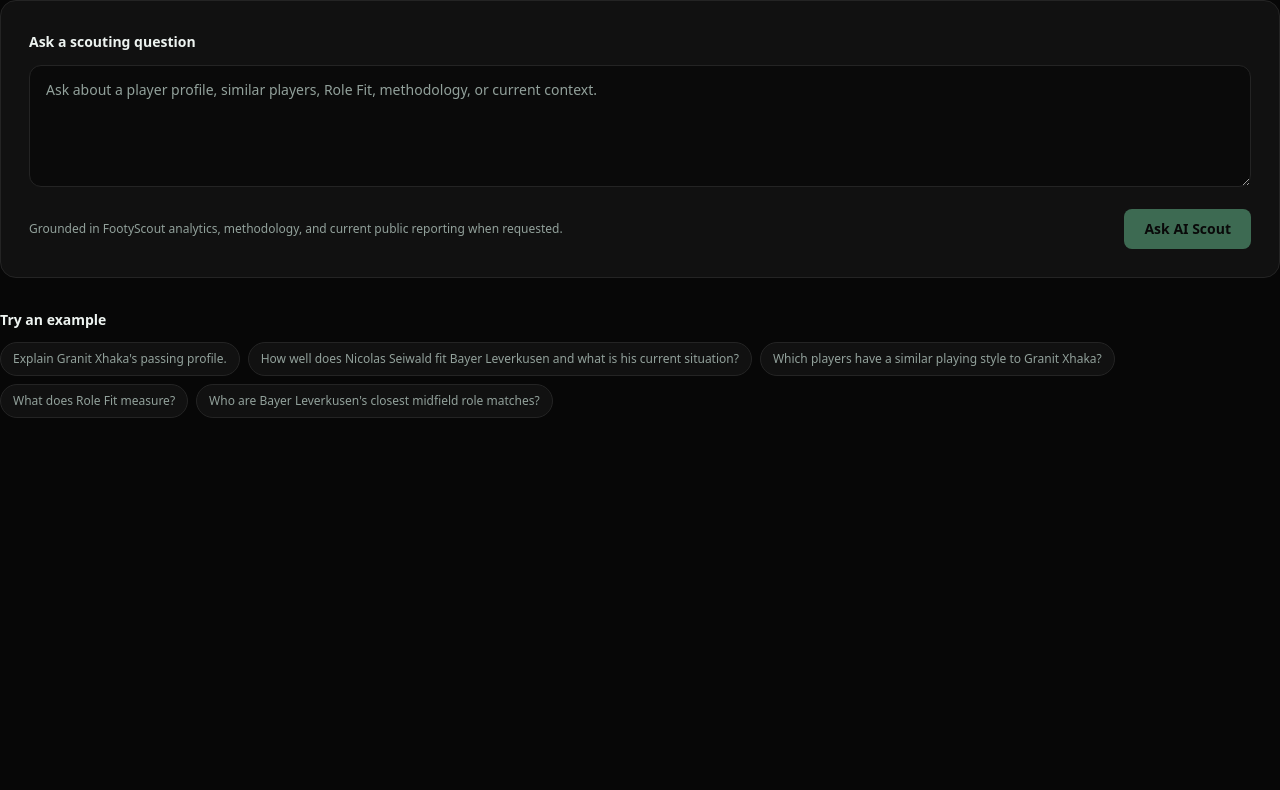
Scenario: AIScoutExperience › renders a successful or repaired answer as normal grounded Markdown
This screenshot has width=1280, height=790.
Type "Explain Role Fit." into the text box labelled "Ask a scouting question".
click(640, 126); type("Explain Role Fit.")  # box [29,65,1251,187]
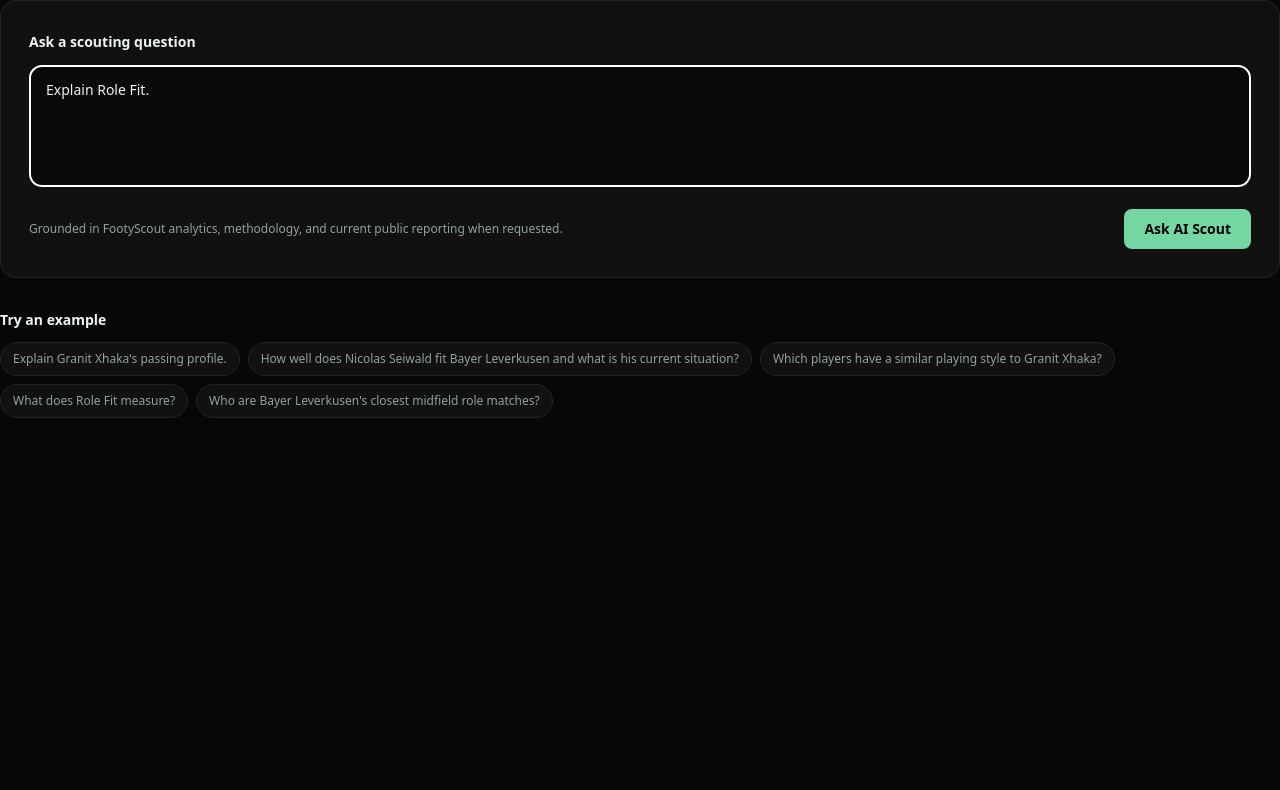
Click the button "Ask AI Scout".
click(1188, 229)  # box [1124,209,1251,249]
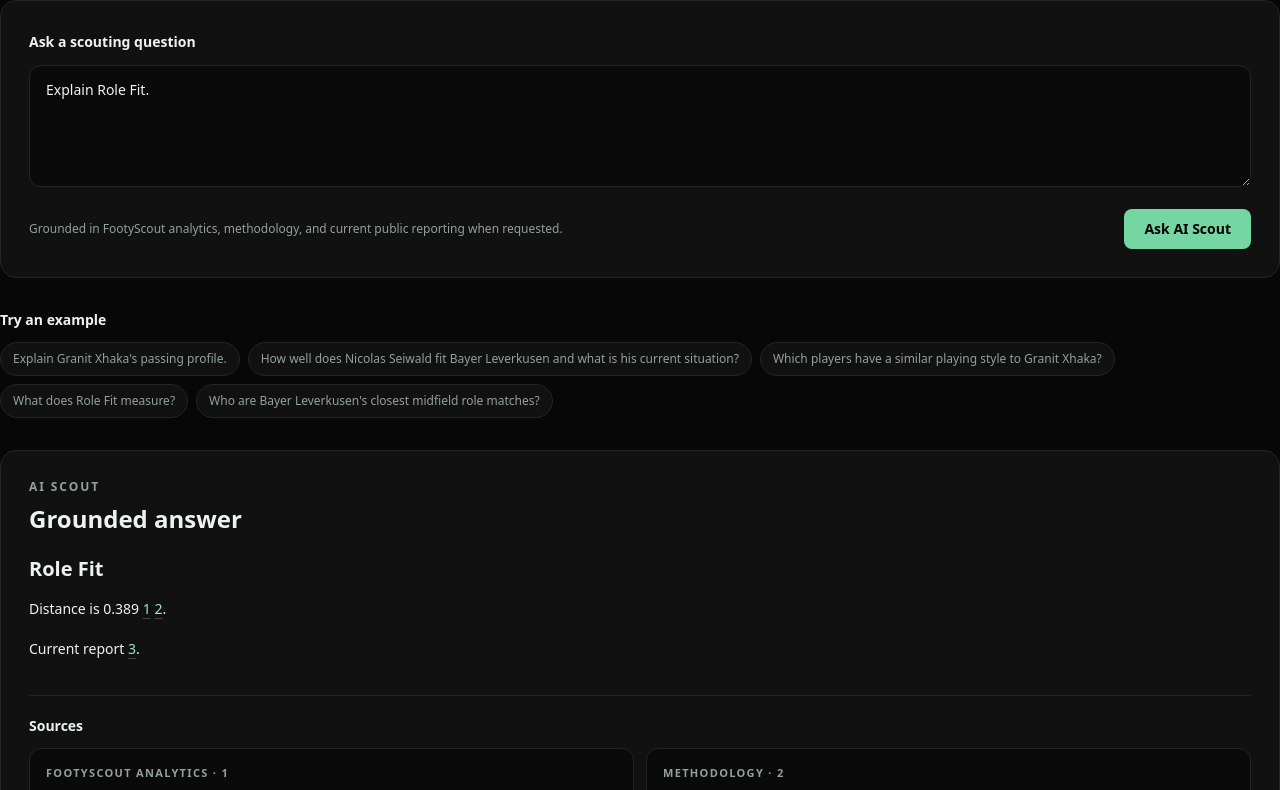
Now the heading "Grounded answer" is shown, box [29,502,242,535]
Now the heading "Role Fit" is shown, box [29,555,104,582]
Now the text "Distance is 0.389 1 2 ." is shown, box [29,599,166,618]
